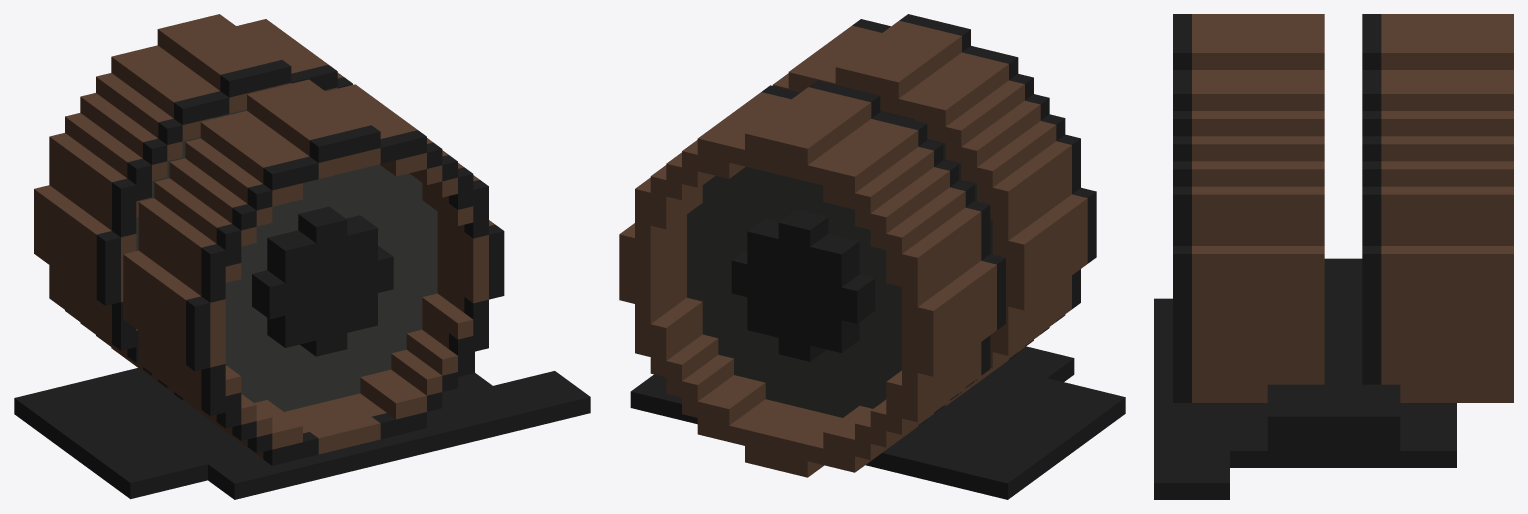
The model's file is burnt_out_bus_dual_rim.glb.
3 renders of one model, left to right at view 1: azimuth 30°, elevation 25°; view 2: azimuth 150°, elevation 25°; view 3: azimuth 270°, elevation 25°, orthographic. The views are drawn at different scales.
Visible parts, largest first — view 1: body:compound; view 2: body:compound; view 3: body:compound.
Part boxes in pixels (left/top/right/bottom): body:compound: left=14, top=14, right=590, bottom=499; body:compound: left=619, top=14, right=1125, bottom=499; body:compound: left=1154, top=14, right=1513, bottom=499.
Bounding box in the file's own units: 0.875 × 0.625 × 0.5938.
